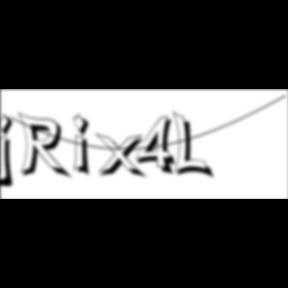4: (136, 115, 182, 179)
L: (173, 110, 217, 182)
R: (19, 112, 76, 182)
i: (73, 112, 97, 180)
j: (1, 113, 22, 191)
x: (96, 132, 150, 181)
